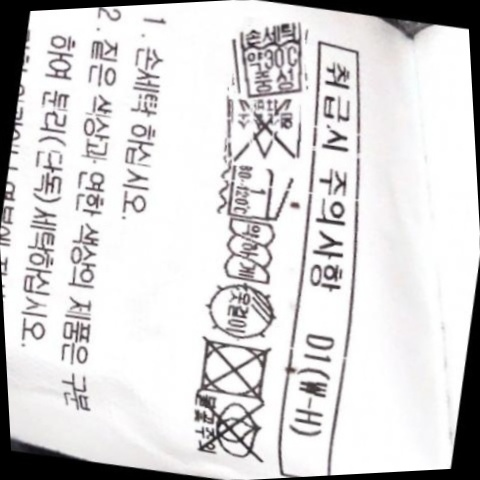DN_tumble_dry: (187, 332, 278, 404)
hand_wash: (228, 21, 313, 99)
iron_low: (220, 159, 293, 226)
line_dry_in_shade: (199, 279, 284, 343)
wring: (218, 216, 280, 288)
